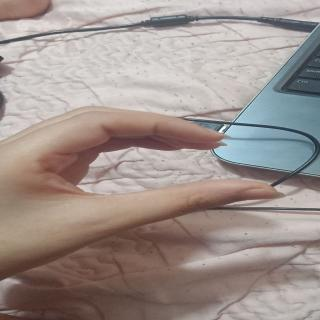JEEM: (0, 99, 315, 262)
